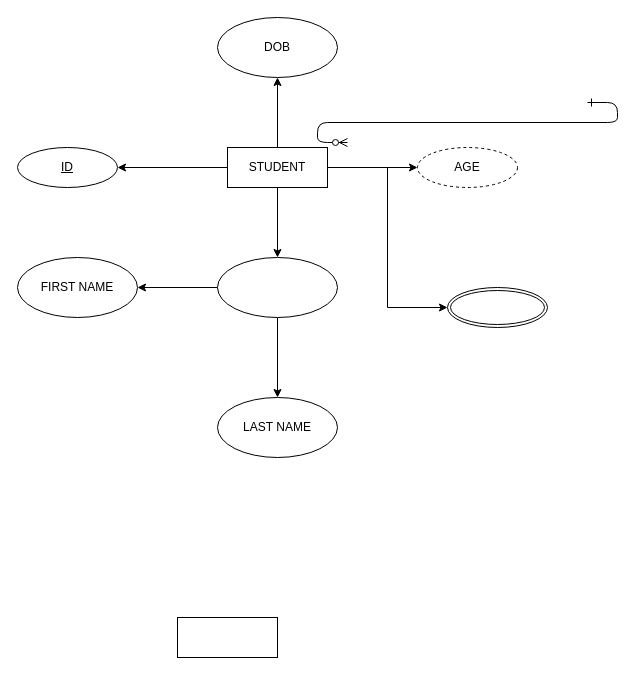
This 644x675 diagram has some shape labels left out. The box of each missing label's shape, as (x1, y1, x2, y2) in pixels:
BATCH: (176, 616, 278, 658)
EMAIL: (446, 286, 548, 328)
NAME: (216, 256, 338, 318)
